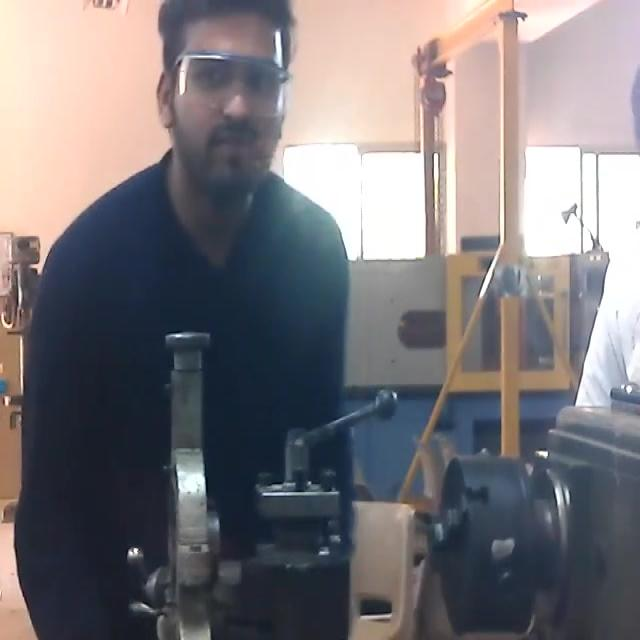googles: (174, 46, 286, 122)
